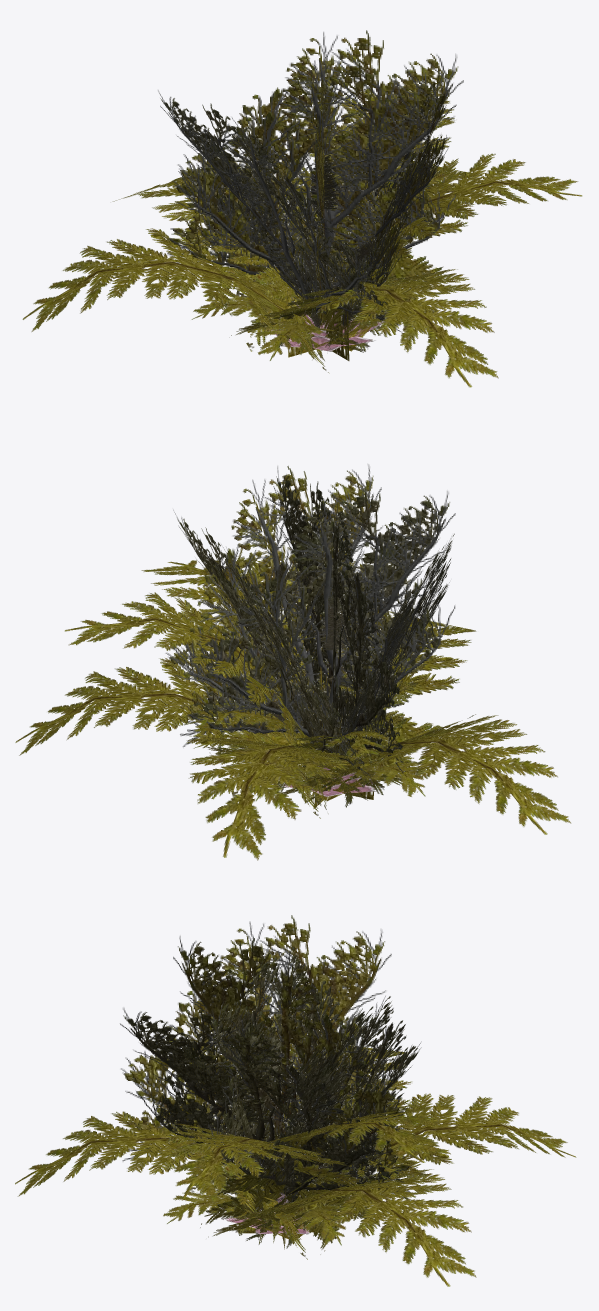
File: plants.glb
3 renders of one model, top to bottom at view 1: azimuth 30°, elevation 25°; view 2: azimuth 150°, elevation 25°; view 3: azimuth 270°, elevation 25°, orthographic. The views are drawn at different scales.
Visible parts, largest first — view 1: P_bush-dry, P_Foliage-big-bright, P_bush-live-bright, P_bush-live-dark, P_Foliage-medium-bright, P_Foliage-big-dark, P_Straw-grn, P_Foliage-medium-dark, P_flower-big-pink, P_grass-generic; view 2: P_Foliage-big-bright, P_bush-live-dark, P_bush-dry, P_bush-live-bright, P_Foliage-medium-bright, P_Foliage-big-dark, P_Straw-grn, P_Foliage-medium-dark; view 3: P_Foliage-big-bright, P_bush-live-dark, P_bush-live-bright, P_bush-dry, P_Foliage-medium-bright, P_Foliage-big-dark, P_Foliage-medium-dark.
Part boxes in pixels (x1,y1,x2,y2): P_bush-dry: [158, 32, 463, 333]; P_Foliage-big-bright: [22, 82, 582, 387]; P_bush-live-bright: [162, 30, 457, 318]; P_bush-live-dark: [161, 30, 456, 320]; P_Foliage-medium-bright: [172, 203, 433, 360]; P_Foliage-big-dark: [23, 86, 576, 386]; P_Straw-grn: [267, 155, 380, 327]; P_Foliage-medium-dark: [182, 217, 427, 360]; P_flower-big-pink: [268, 305, 384, 351]; P_grass-generic: [284, 251, 349, 360]; P_Foliage-big-bright: [15, 560, 570, 860]; P_bush-live-dark: [171, 466, 454, 769]; P_bush-dry: [165, 464, 455, 784]; P_bush-live-bright: [170, 466, 448, 761]; P_Foliage-medium-bright: [184, 645, 464, 807]; P_Foliage-big-dark: [20, 561, 570, 859]; P_Straw-grn: [269, 593, 391, 752]; P_Foliage-medium-dark: [184, 657, 437, 807]; P_Foliage-big-bright: [15, 1045, 576, 1286]; P_bush-live-dark: [124, 915, 417, 1202]; P_bush-live-bright: [124, 915, 417, 1198]; P_bush-dry: [120, 922, 421, 1208]; P_Foliage-medium-bright: [149, 1093, 415, 1248]; P_Foliage-big-dark: [19, 1051, 566, 1285]; P_Foliage-medium-dark: [164, 1101, 402, 1245].
Size of the model in its own units: 0.9699 by 0.5462 by 0.9406.
9 materials, 9 textured.
